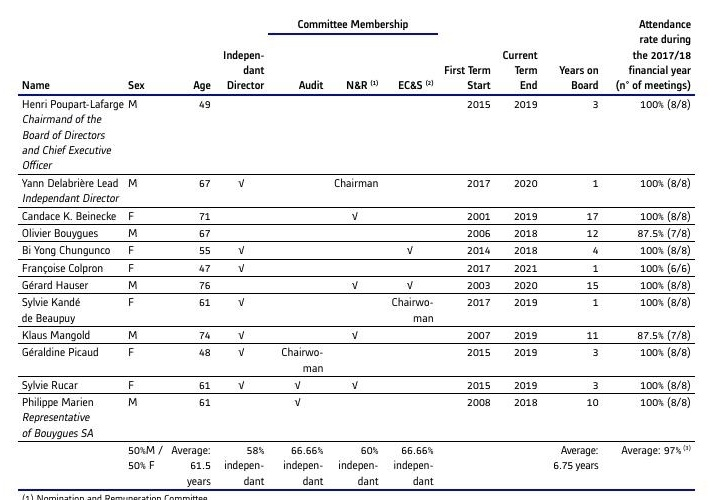table: (0, 0, 712, 500)
